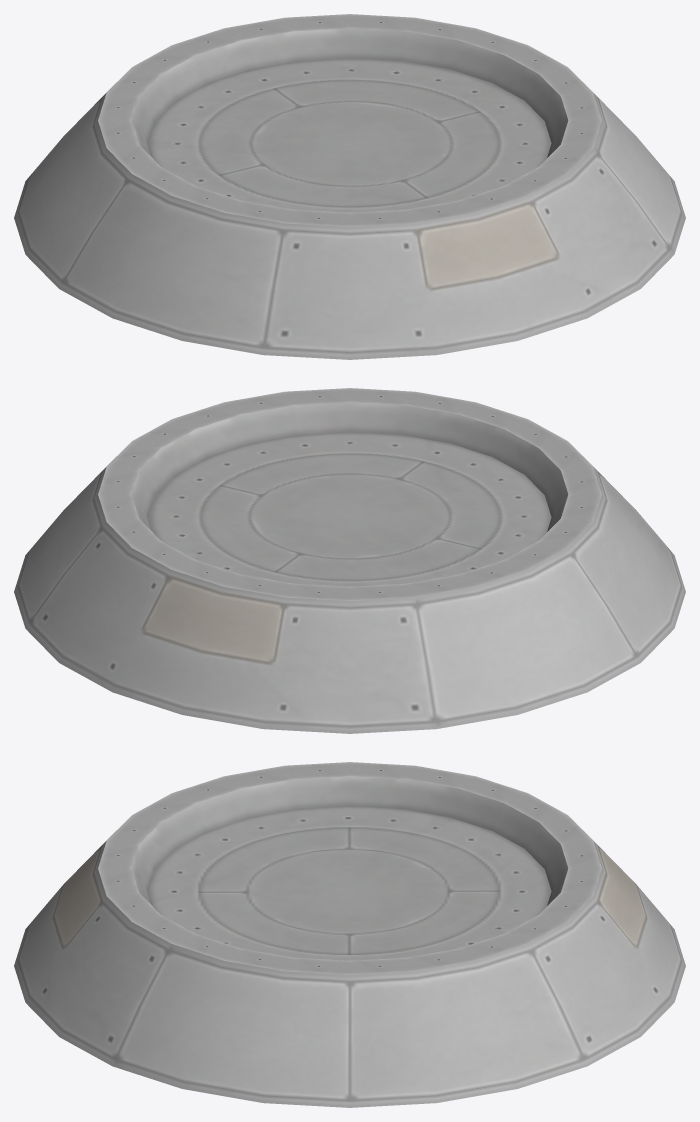
The model's file is Hadar_Mount_2_1.obj.
3 views of the same model, one above another, from view 1: azimuth 30°, elevation 25°; view 2: azimuth 150°, elevation 25°; view 3: azimuth 270°, elevation 25° (orthographic).
Parts seen in each view (by area): view 1: Hadar_Mount_2_1; view 2: Hadar_Mount_2_1; view 3: Hadar_Mount_2_1.
Boxes of the visible parts, bbox=[...] form: Hadar_Mount_2_1: bbox=[14, 14, 685, 359]; Hadar_Mount_2_1: bbox=[14, 388, 685, 733]; Hadar_Mount_2_1: bbox=[14, 762, 685, 1107].
Bounding box in the file's own units: 1.25 × 0.2 × 1.25.
